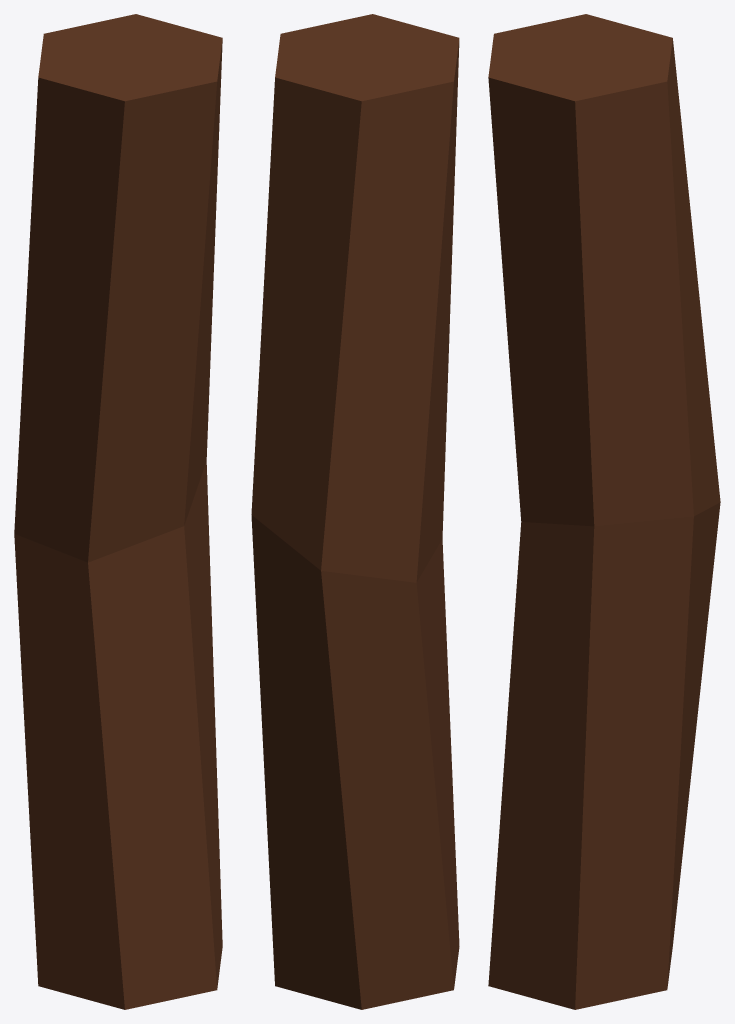
Rendered from FencePost.fbx.
3 views of the same model, side by side, from view 1: azimuth 30°, elevation 25°; view 2: azimuth 150°, elevation 25°; view 3: azimuth 270°, elevation 25° (orthographic).
Parts seen in each view (by area): view 1: FencePost; view 2: FencePost; view 3: FencePost.
Part boxes in pixels (x1,y1,x2,y2): FencePost: [14, 14, 222, 1009]; FencePost: [251, 14, 459, 1009]; FencePost: [488, 14, 720, 1009].
Bounding box in the file's own units: 58.73 × 285 × 66.
